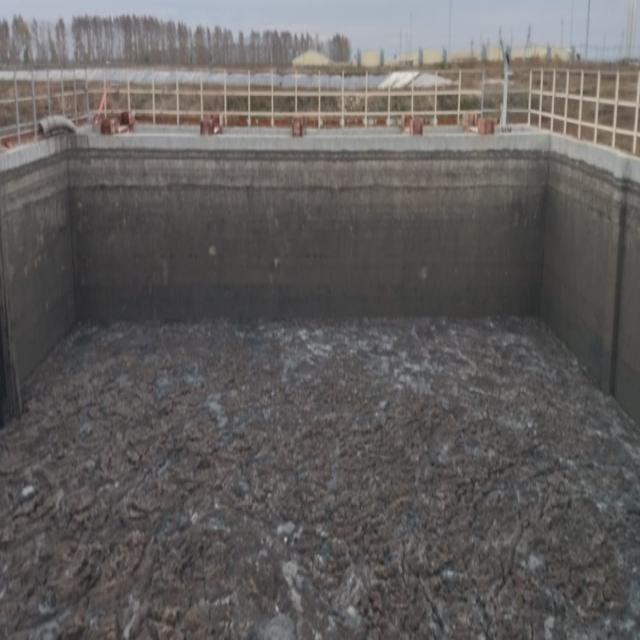fence: (0, 66, 504, 153)
liquid: (0, 315, 640, 640)
